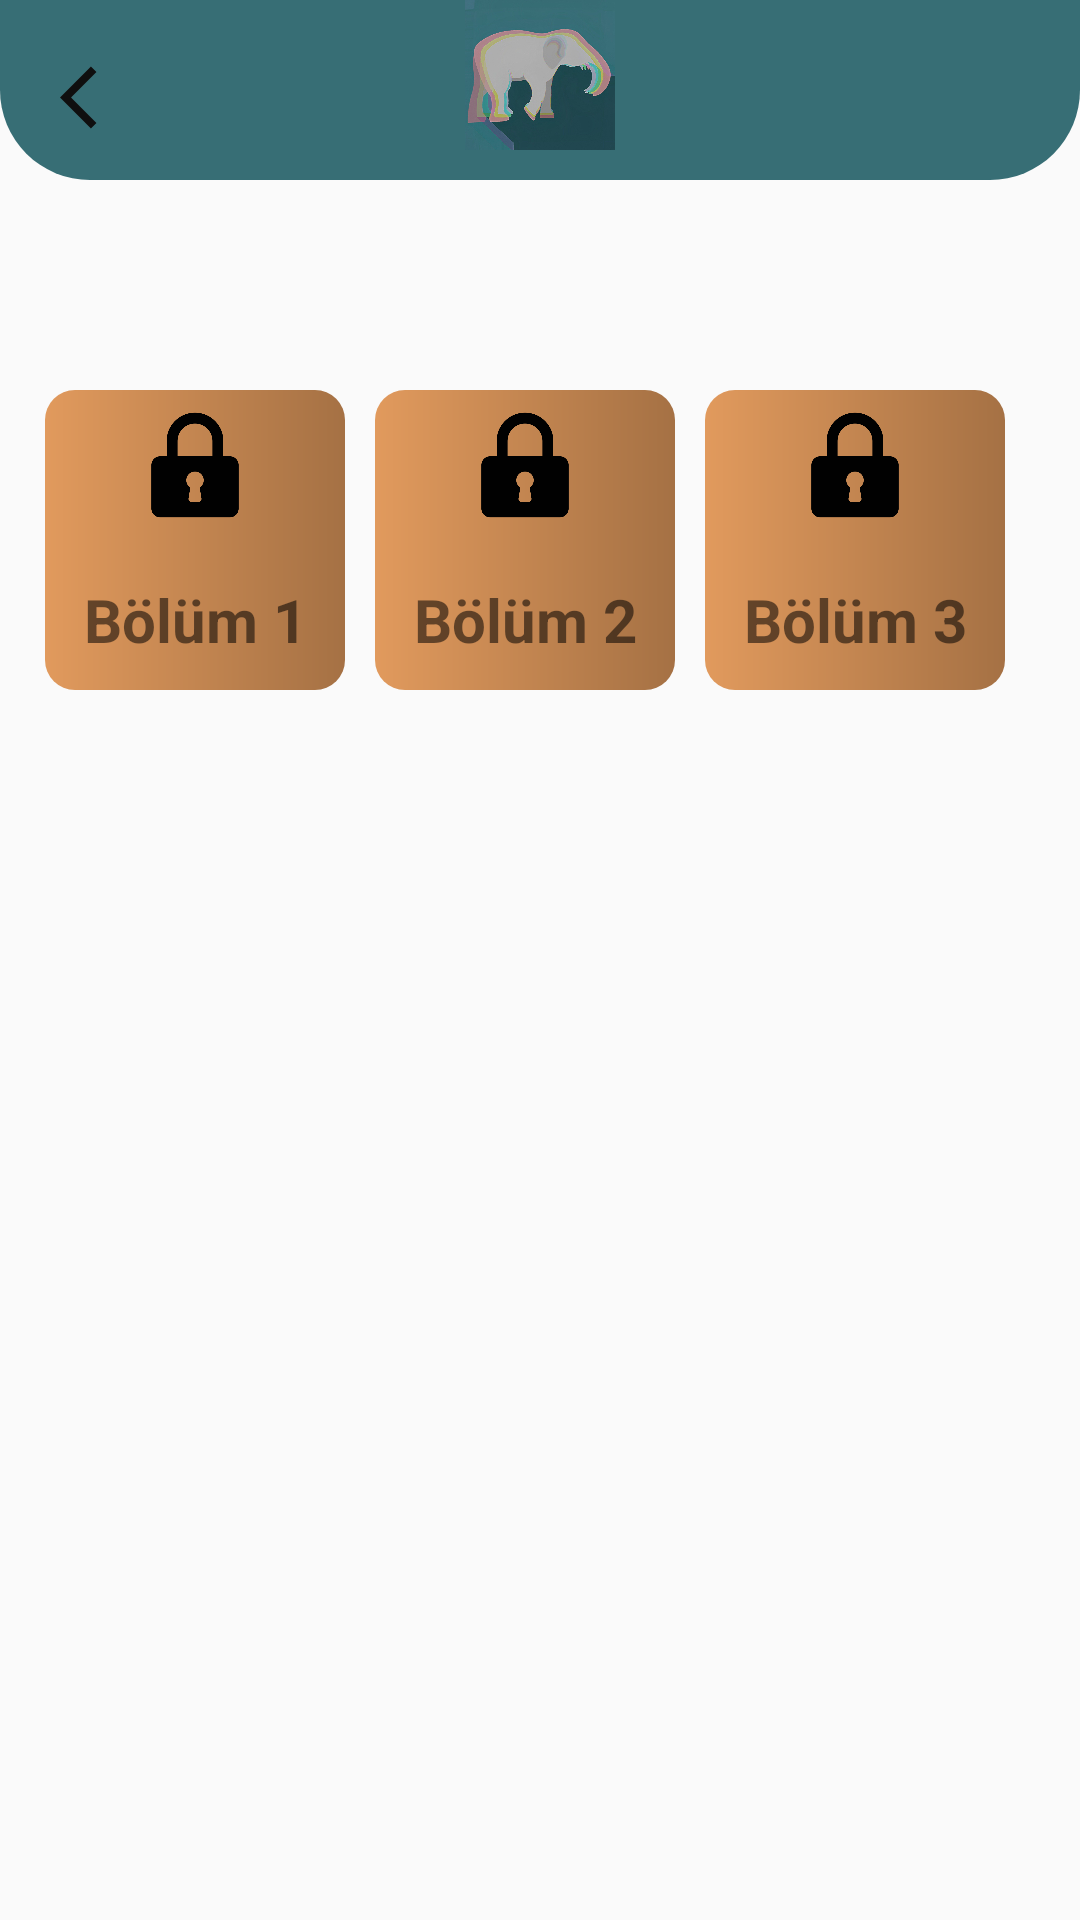

Named icons in this screenshot (1080 x 1920) and their centers, (x=x, y=y):
back: (x=78, y=97)
closelock: (x=195, y=465), (x=525, y=465), (x=855, y=465)
